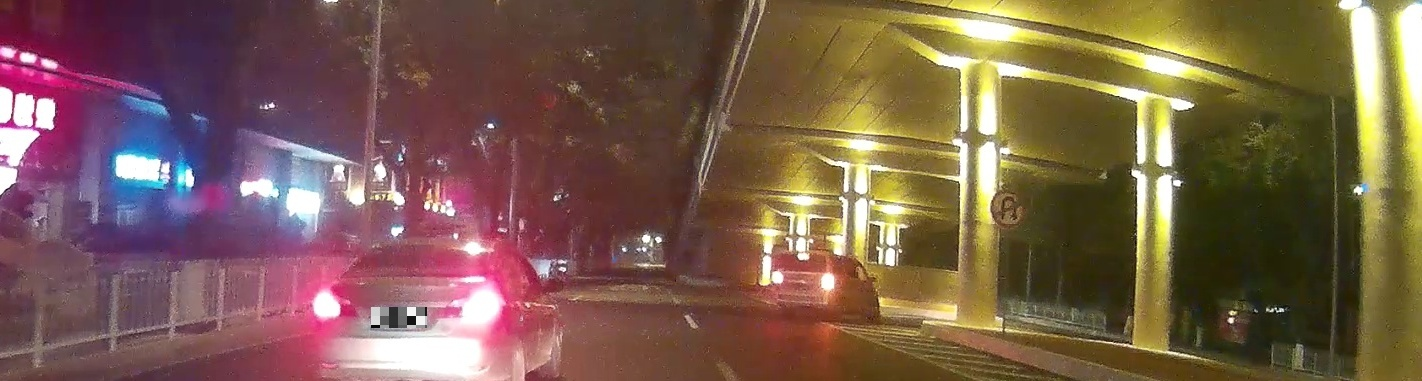L_light: (317, 294, 358, 317), (775, 272, 785, 282)
R_light: (444, 296, 503, 319), (821, 275, 834, 287)
T_light: (411, 244, 436, 250), (799, 255, 810, 260)
night-brake: (774, 250, 836, 320)
night-no: (316, 237, 512, 381)
plate_1: (371, 307, 427, 328)
